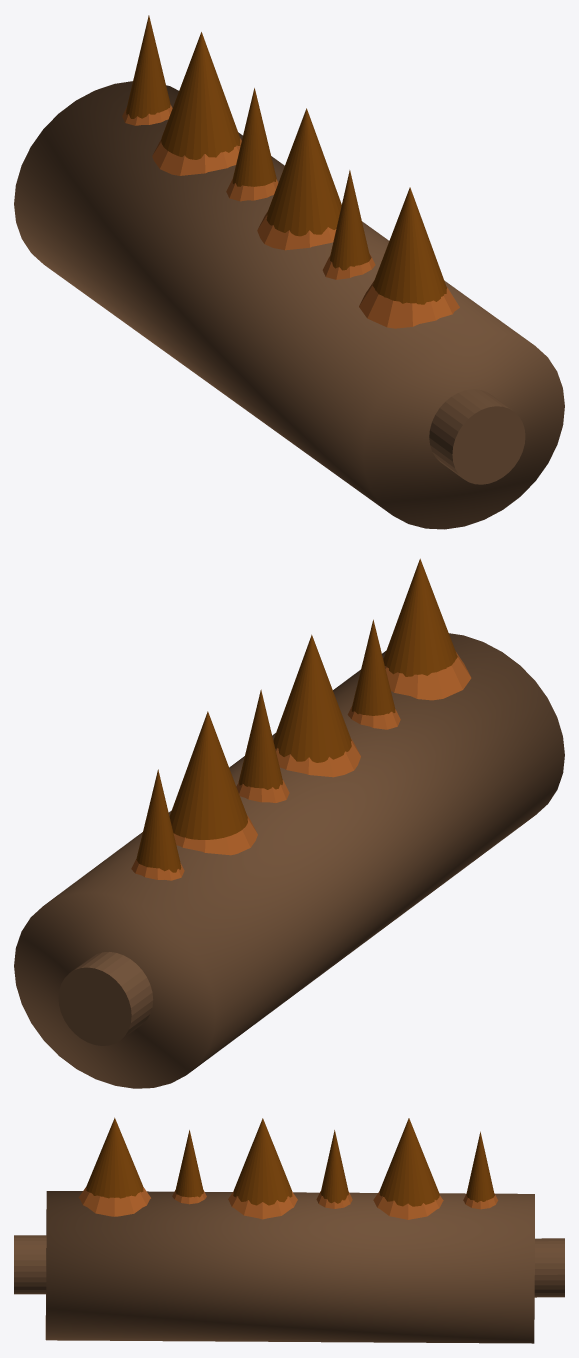
The model's file is obs.fbx.
The picture shows the model from 3 angles, top to bottom: view 1: azimuth 30°, elevation 25°; view 2: azimuth 150°, elevation 25°; view 3: azimuth 270°, elevation 25°; orthographic projection. The views are drawn at different scales.
Visible parts, largest first — view 1: Circle; view 2: Circle; view 3: Circle.
Part boxes in pixels (left/top/right/bottom): Circle: left=14, top=15, right=564, bottom=529; Circle: left=14, top=558, right=564, bottom=1088; Circle: left=14, top=1117, right=564, bottom=1343.
Size of the model in its own units: 190 by 279 by 644.
